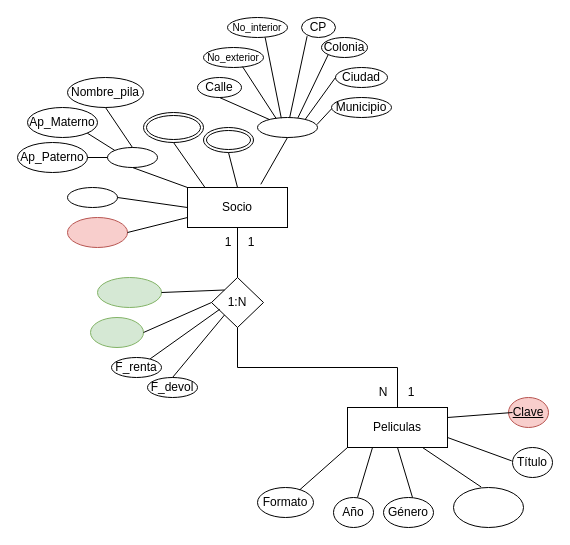
Some shapes in this 570 by 545 pixel diagram are drawn without their labels. Here are the shapes that lost their labels. From the top down, the box of each, then its label:
(142, 112, 204, 142): Teléfonos
(202, 126, 254, 152): Emails
(256, 116, 318, 138): Dirección
(106, 146, 158, 168): Nombre
(66, 186, 118, 208): RFC
(66, 216, 128, 248): No_Socio
(96, 276, 162, 308): No_Socio1
(90, 316, 144, 348): Clave1
(452, 486, 524, 528): Clasificación
